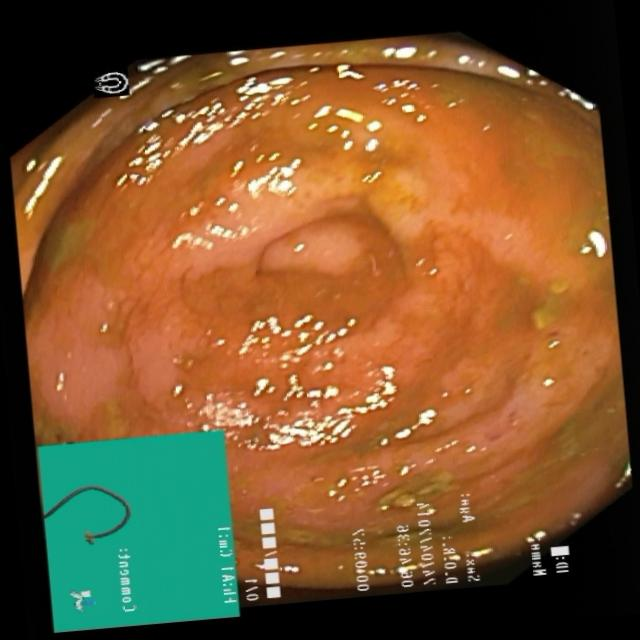normal-cecum: (1, 36, 640, 579)
